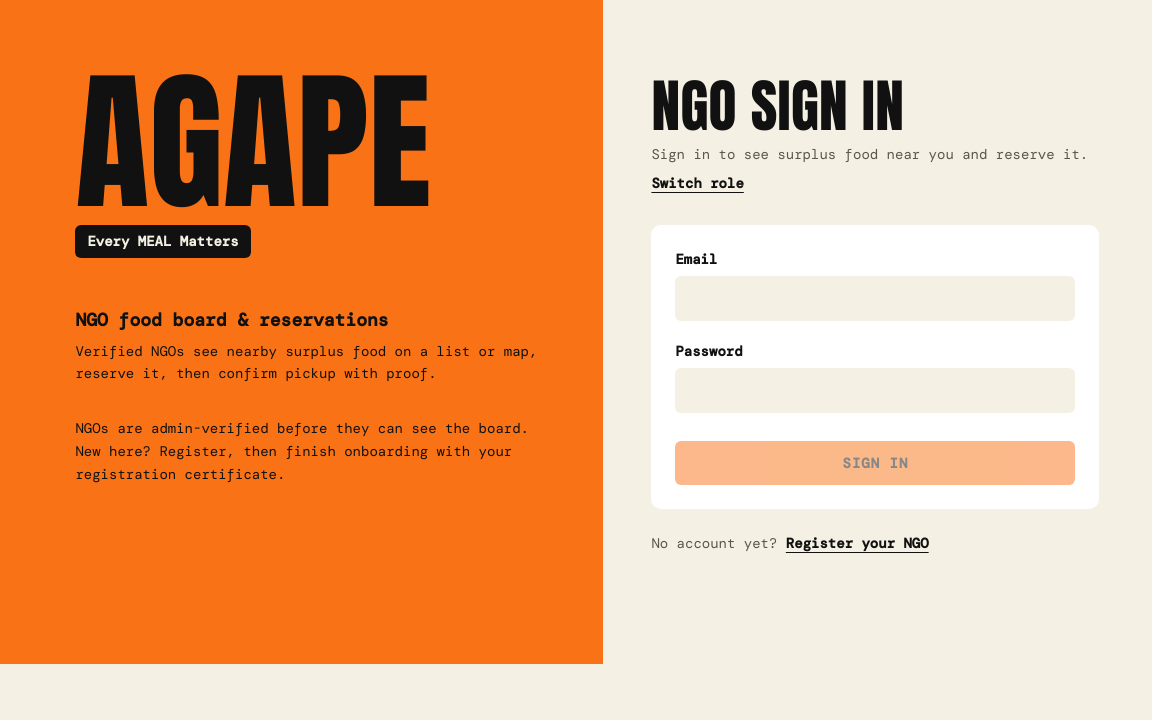
it: signing in (live backend) › shows an error and clears the token on bad credentials
The image size is (1152, 720).
Type "a@b.org" into the field labelled "Email".
click(875, 298); type("a@b.org")  # box [675,276,1075,321]
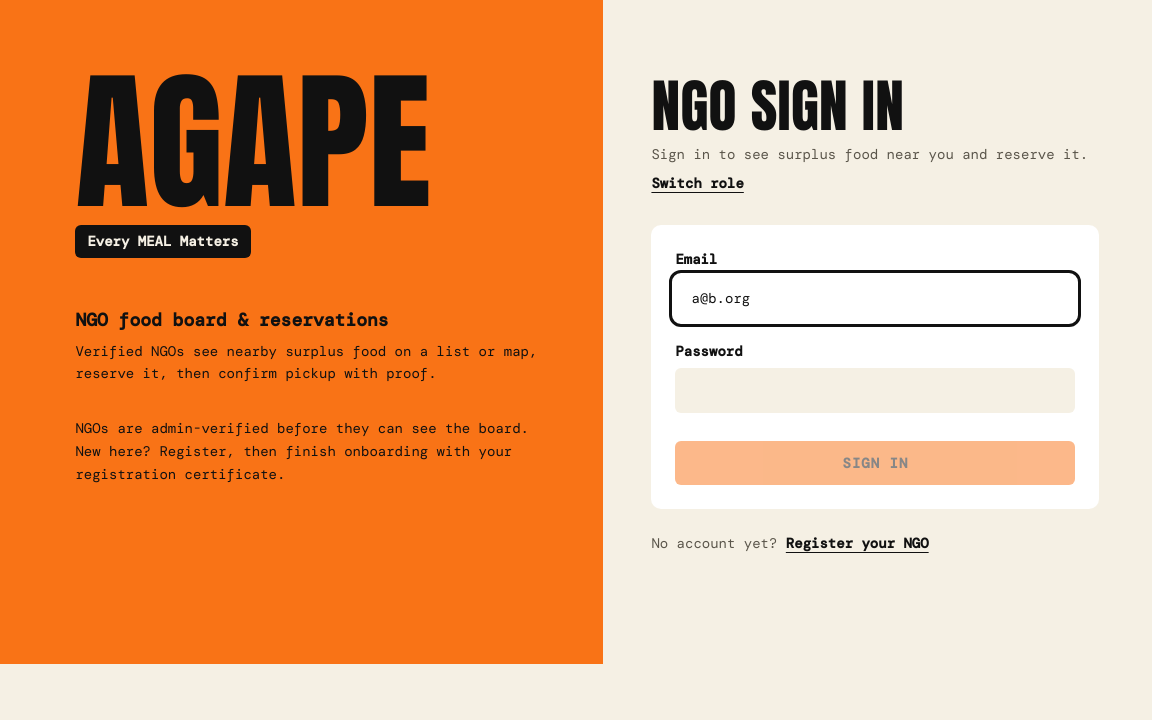
Type "secret123" into the password field labelled "Password".
click(875, 390); type("secret123")  # box [675,368,1075,413]
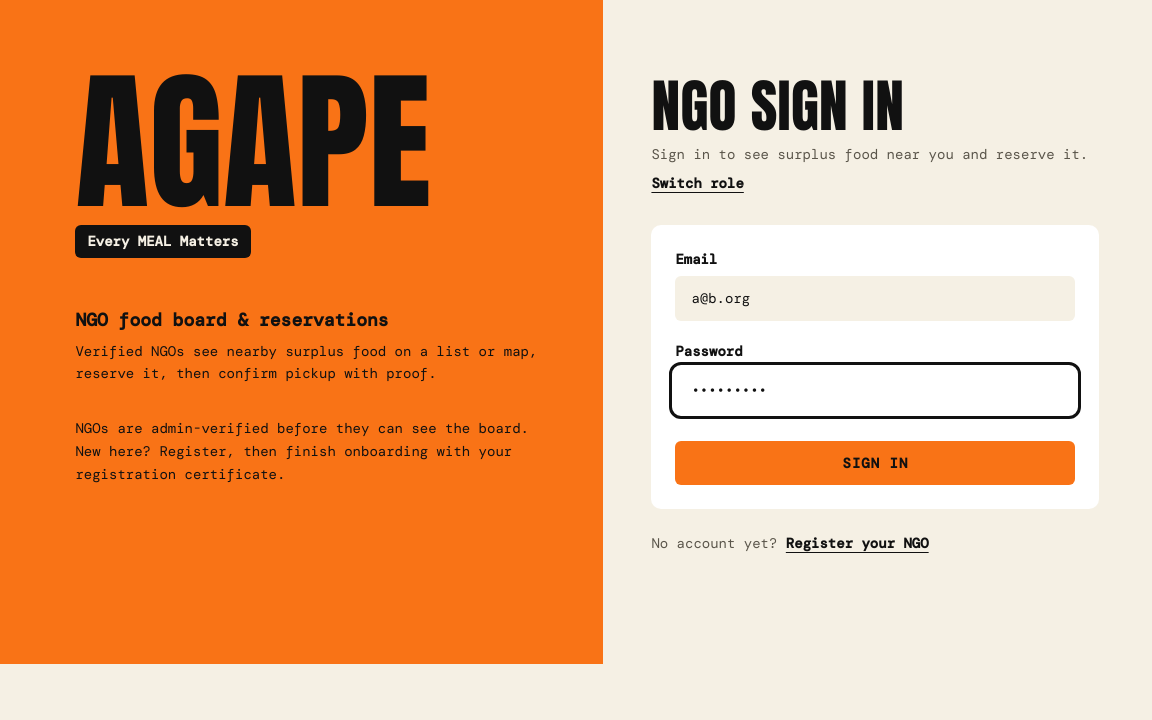
Click the button "Sign in".
click(875, 463)  # box [675,441,1075,485]
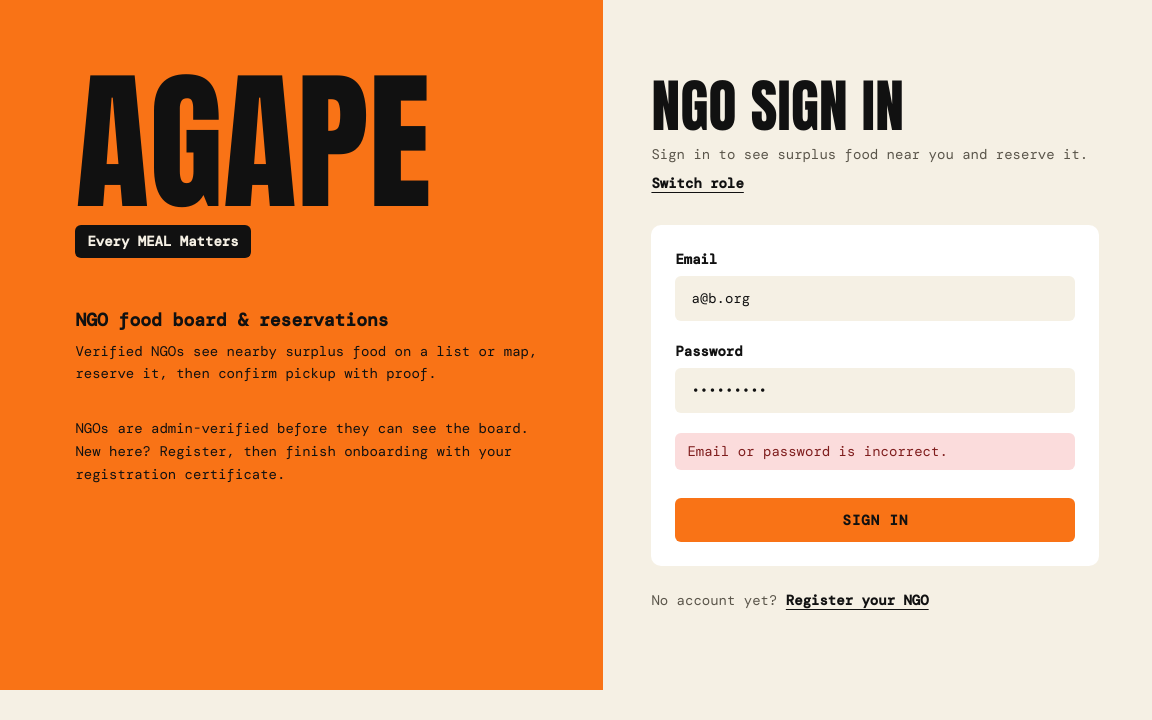
Now the message reads "Email or password is incorrect.", box [687,442,948,460]
